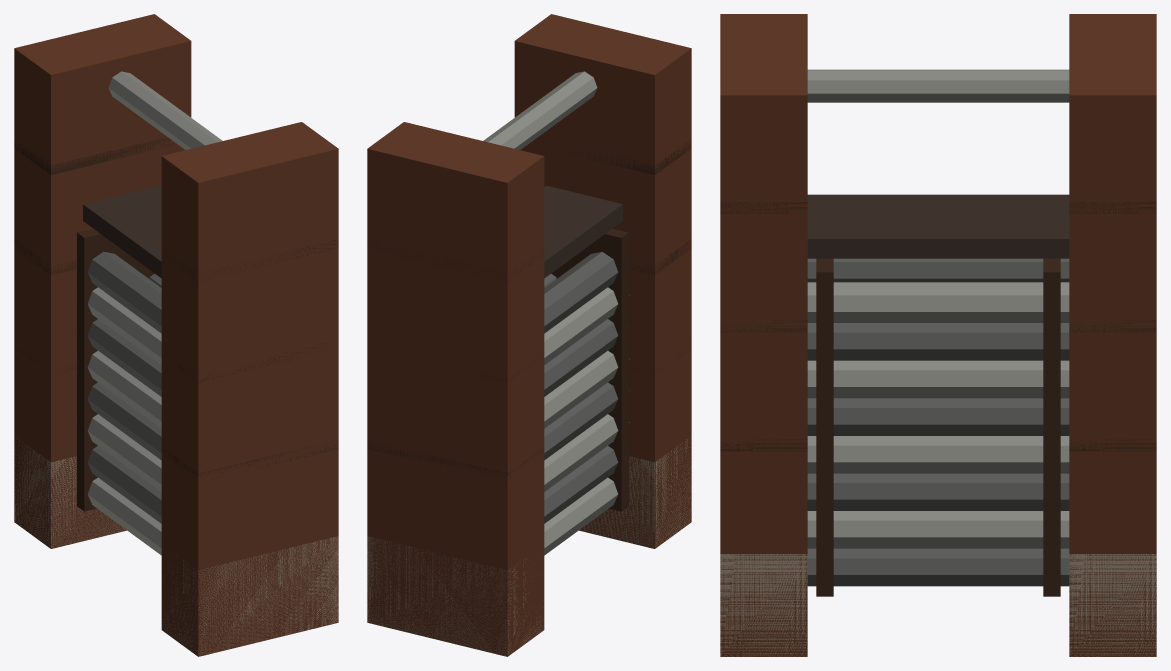
Rendered from fort_pumpworks_inner.glb.
The picture shows the model from 3 angles, left to right: view 1: azimuth 30°, elevation 25°; view 2: azimuth 150°, elevation 25°; view 3: azimuth 270°, elevation 25°; orthographic projection. The views are drawn at different scales.
Parts seen in each view (by area): view 1: fort_pumpworks_inner; view 2: fort_pumpworks_inner; view 3: fort_pumpworks_inner.
Part boxes in pixels (x1=…): fort_pumpworks_inner: x1=14, y1=14, x2=338, y2=656; fort_pumpworks_inner: x1=367, y1=14, x2=691, y2=656; fort_pumpworks_inner: x1=720, y1=14, x2=1156, y2=656.
Size of the model in its own units: 4.4 by 14.2 by 10.
